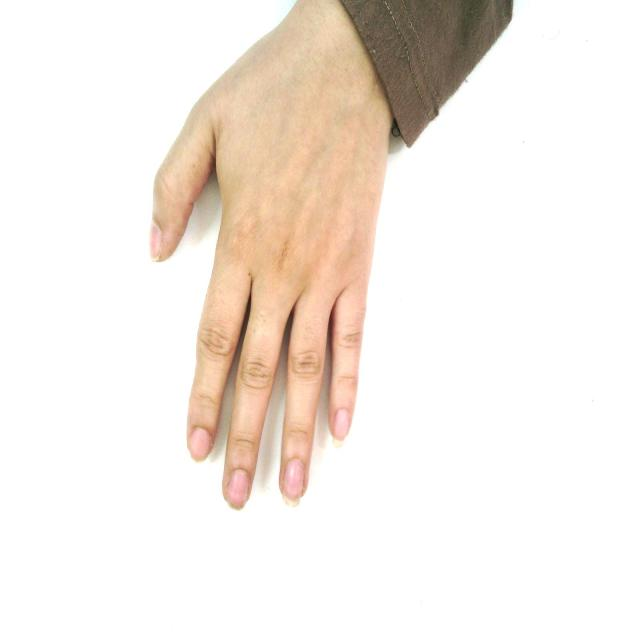Nail: (282, 459, 304, 507), (226, 470, 250, 510), (188, 428, 212, 462), (333, 409, 350, 449), (149, 219, 162, 261)
